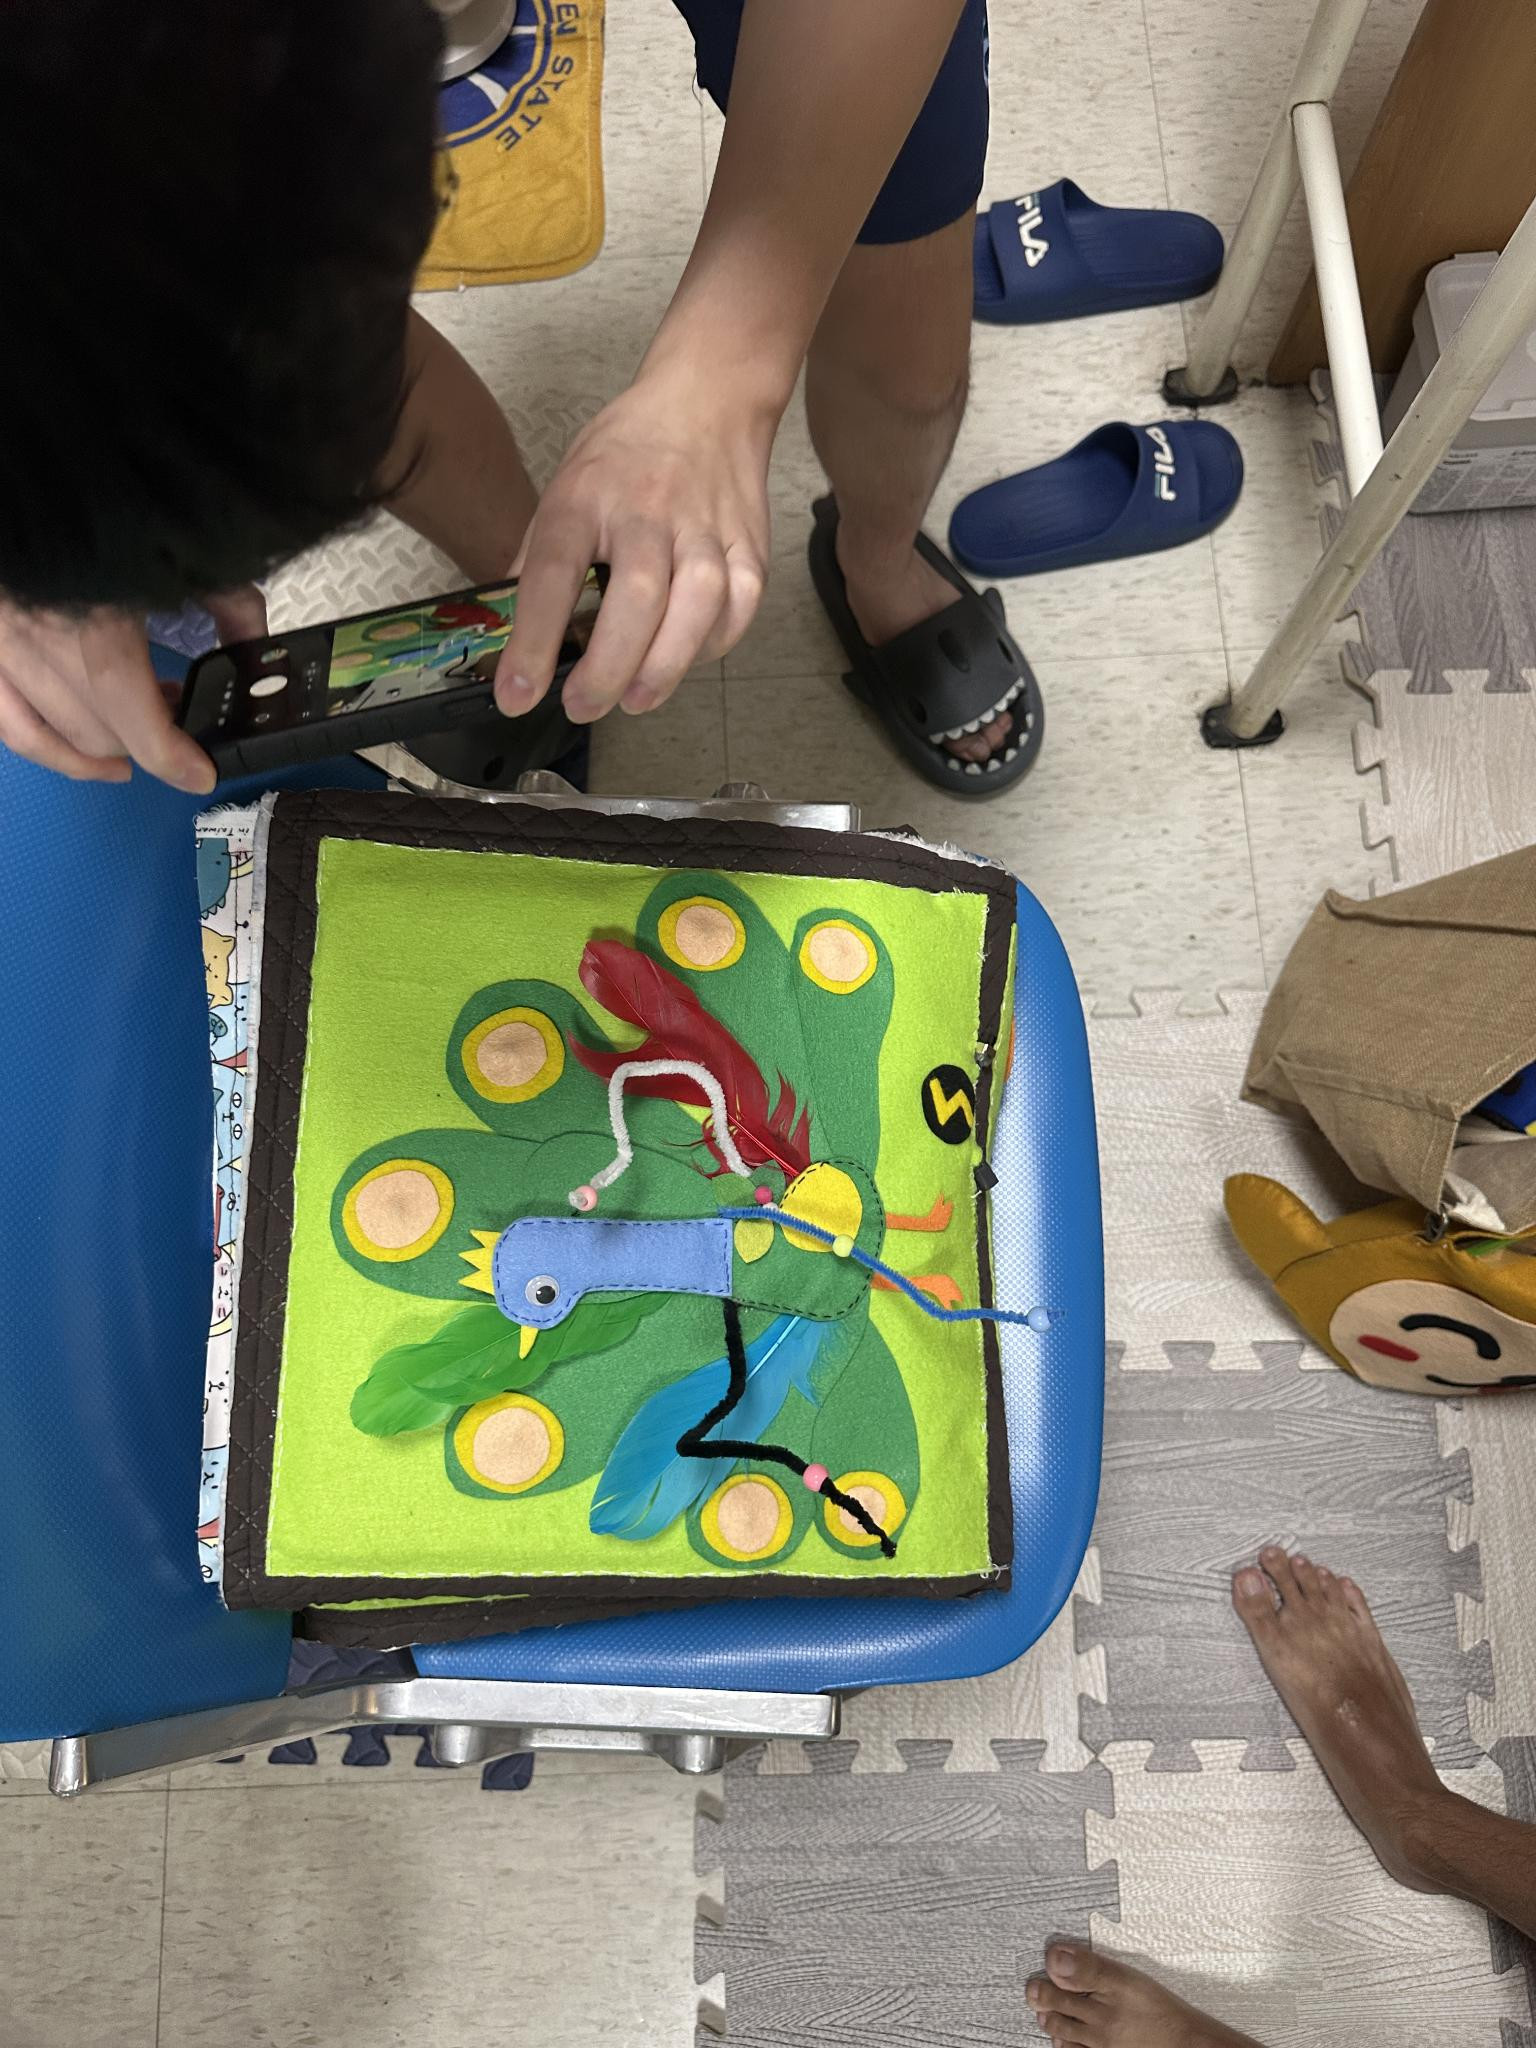bead: (553, 1171, 610, 1227), (1016, 1287, 1062, 1347), (797, 1440, 834, 1509), (823, 1218, 865, 1279)
